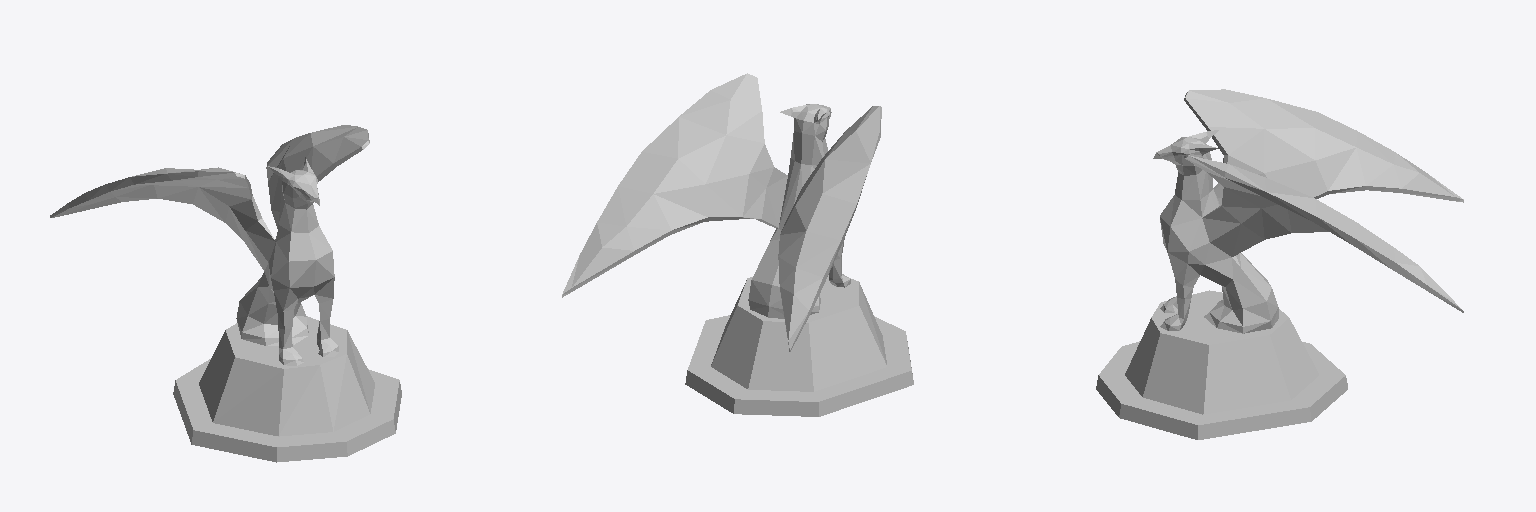
Rendered from Statue.obj.
3 views of the same model, side by side, from view 1: azimuth 30°, elevation 25°; view 2: azimuth 150°, elevation 25°; view 3: azimuth 270°, elevation 25° (orthographic).
Parts seen in each view (by area): view 1: Object_2; view 2: Object_2; view 3: Object_2.
Boxes of the visible parts, x1,y1,x2,y2 form: Object_2: [50, 125, 401, 462]; Object_2: [562, 73, 913, 416]; Object_2: [1096, 89, 1463, 439].
Size of the model in its own units: 3.82 by 4.24 by 5.31.